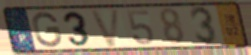3: (62, 9, 96, 49), (189, 4, 219, 48)
5: (125, 9, 156, 46)
8: (157, 7, 186, 47)
G: (31, 10, 64, 49)
V: (88, 8, 122, 49)
